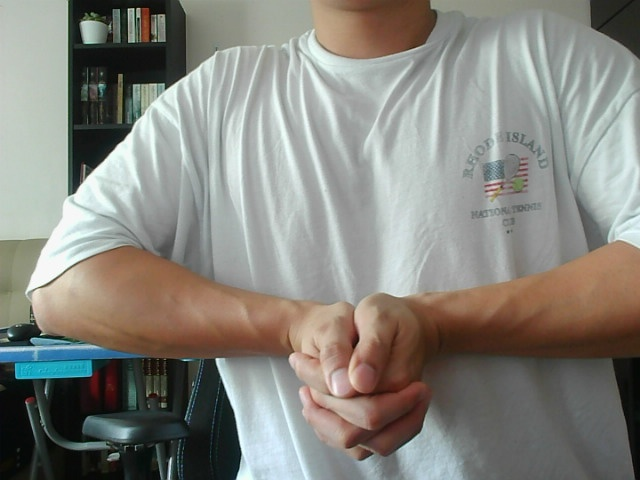Boar: (255, 252, 492, 459)
